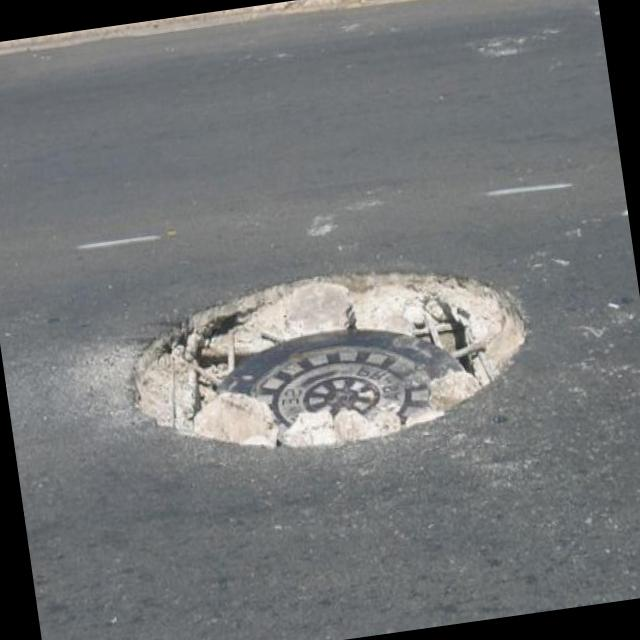pothole: (111, 238, 549, 479)
